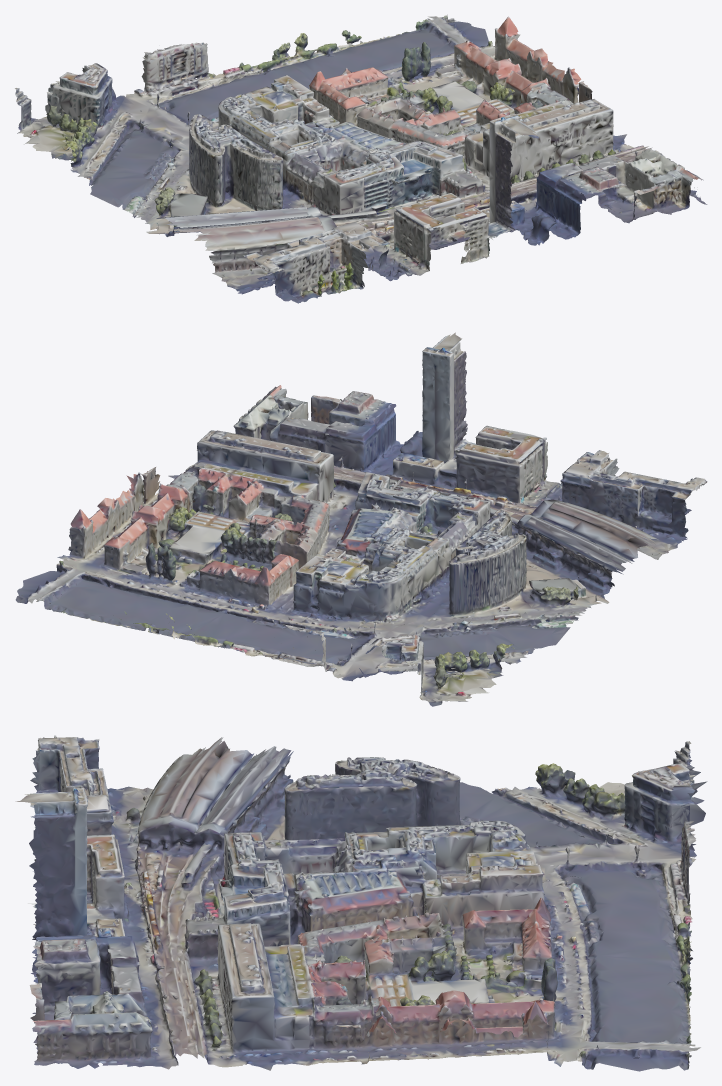
File: surface-detail-3905_58200.glb
3 renders of one model, top to bottom at view 1: azimuth 30°, elevation 25°; view 2: azimuth 150°, elevation 25°; view 3: azimuth 270°, elevation 25°, orthographic. The views are drawn at different scales.
Parts seen in each view (by area): view 1: world; view 2: world; view 3: world.
Part boxes in pixels (x1,y1,x2,y2): world: (15, 14, 707, 303); world: (15, 332, 707, 706); world: (15, 735, 707, 1071).
Size of the model in its own units: 386 by 99.81 by 384.
